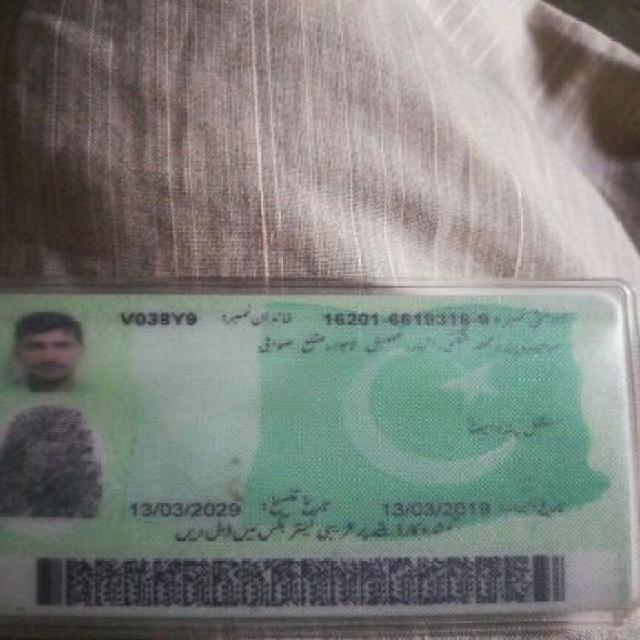Back: (5, 280, 628, 618)
